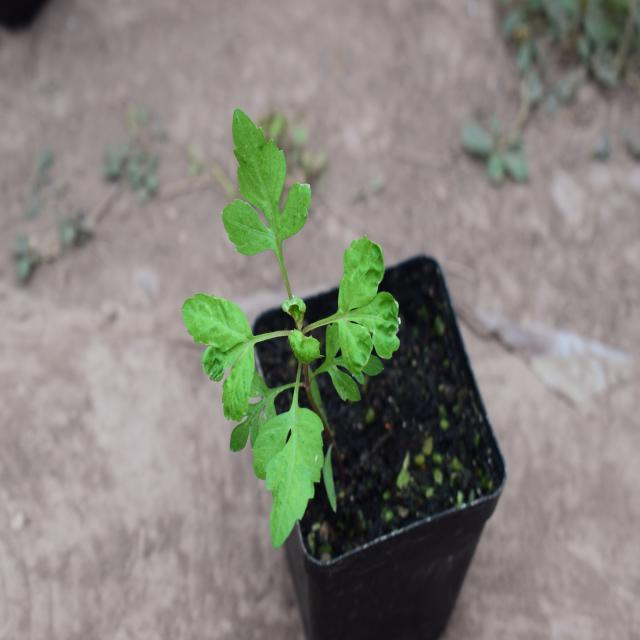Bidens pilosa: (167, 92, 413, 520)
